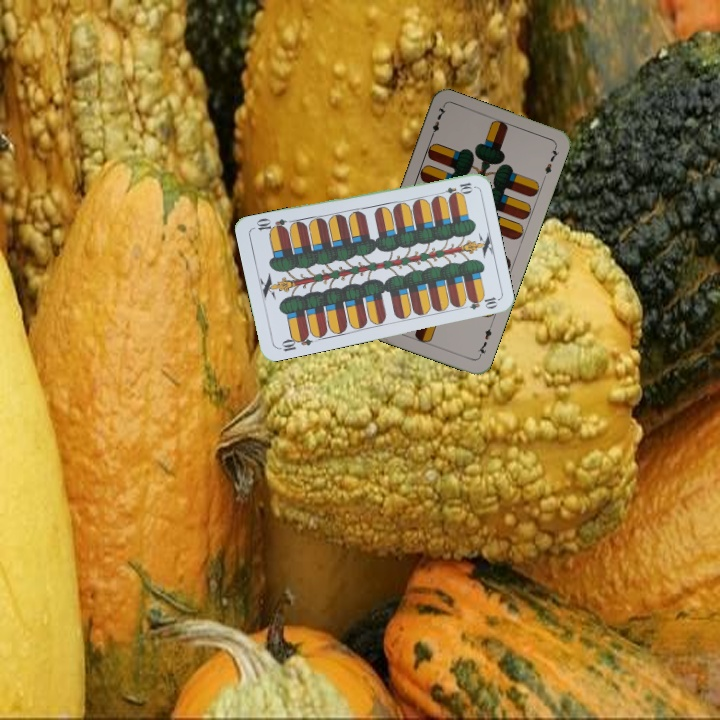E10: (274, 330, 315, 355), (435, 178, 475, 199)
E7: (426, 103, 449, 142), (473, 321, 495, 360)
